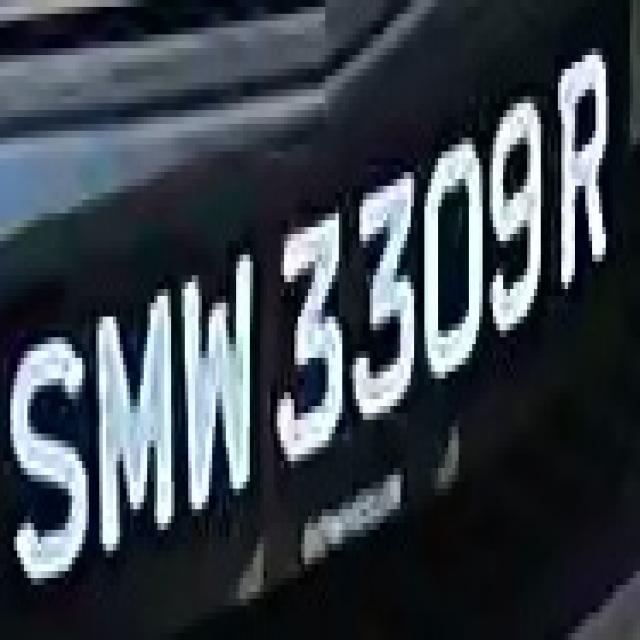0: (421, 145, 486, 399)
3: (267, 206, 359, 482), (346, 172, 428, 440)
9: (479, 90, 551, 372)
M: (92, 282, 185, 564)
R: (548, 34, 620, 289)
S: (4, 310, 100, 612)
W: (175, 220, 260, 523)
